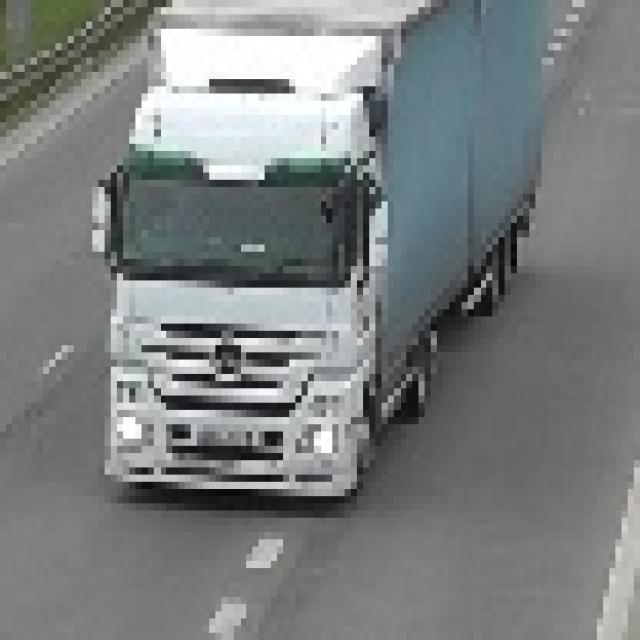TRUCK: (80, 0, 554, 511)
